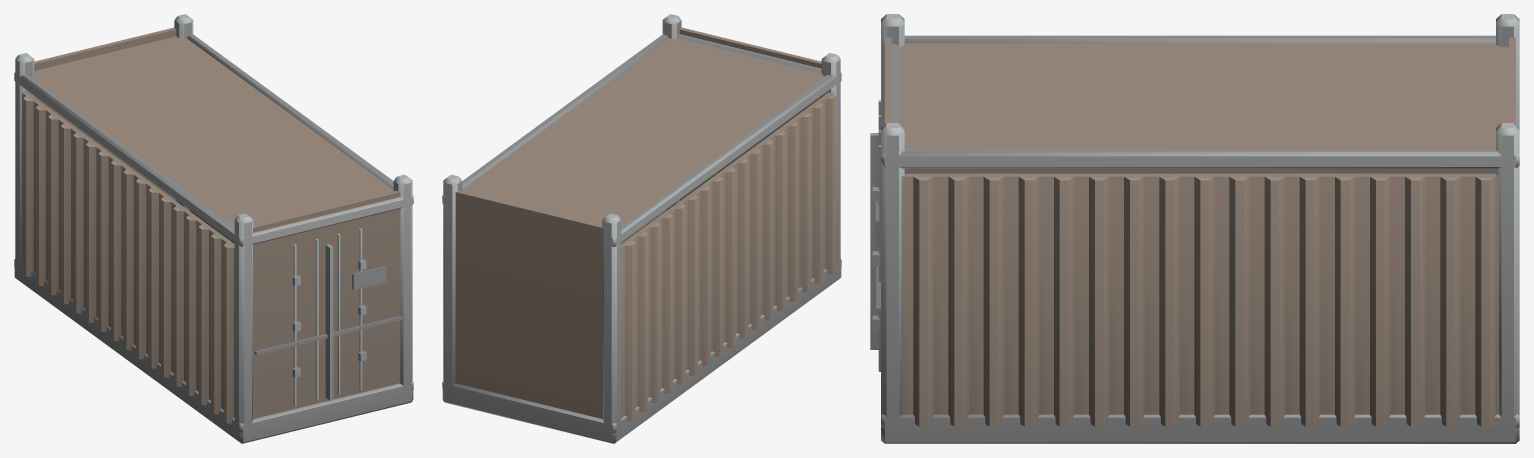
3 views of the same model, side by side, from view 1: azimuth 30°, elevation 25°; view 2: azimuth 150°, elevation 25°; view 3: azimuth 270°, elevation 25° (orthographic). The views are drawn at different scales.
Visible parts, largest first — view 1: box.001; view 2: box.001; view 3: box.001.
Boxes of the visible parts, <box> form: box.001: <box>14,14,413,443</box>; box.001: <box>442,14,841,443</box>; box.001: <box>870,14,1519,443</box>.
Size of the model in its own units: 2.48 by 2.94 by 5.49.
